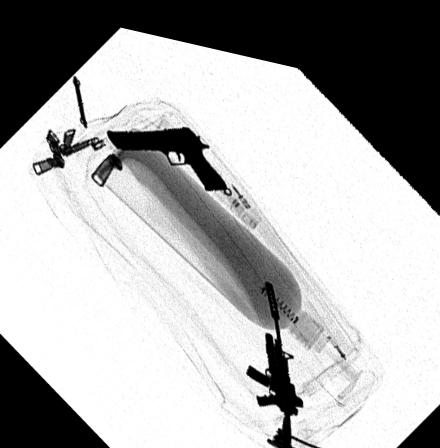Gun: (244, 266, 304, 441), (105, 116, 227, 180)
